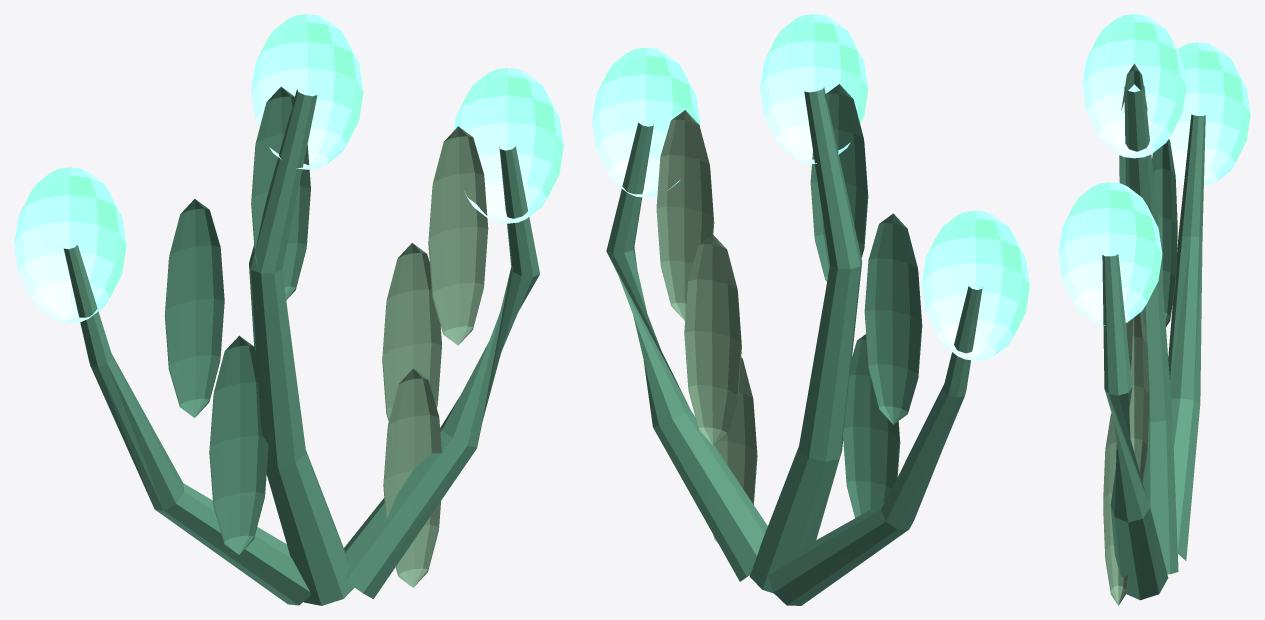
The model's file is nat-glow-plant-a.gltf.
The picture shows the model from 3 angles, left to right: view 1: azimuth 30°, elevation 25°; view 2: azimuth 150°, elevation 25°; view 3: azimuth 270°, elevation 25°; orthographic projection. The views are drawn at different scales.
Parts seen in each view (by area): view 1: glow; view 2: glow; view 3: glow.
Part boxes in pixels (bbox=[...]): glow: bbox=[14, 14, 563, 605]; glow: bbox=[592, 14, 1029, 605]; glow: bbox=[1058, 14, 1250, 605].
Bounding box in the file's own units: 1.3 × 1.53 × 0.48.
